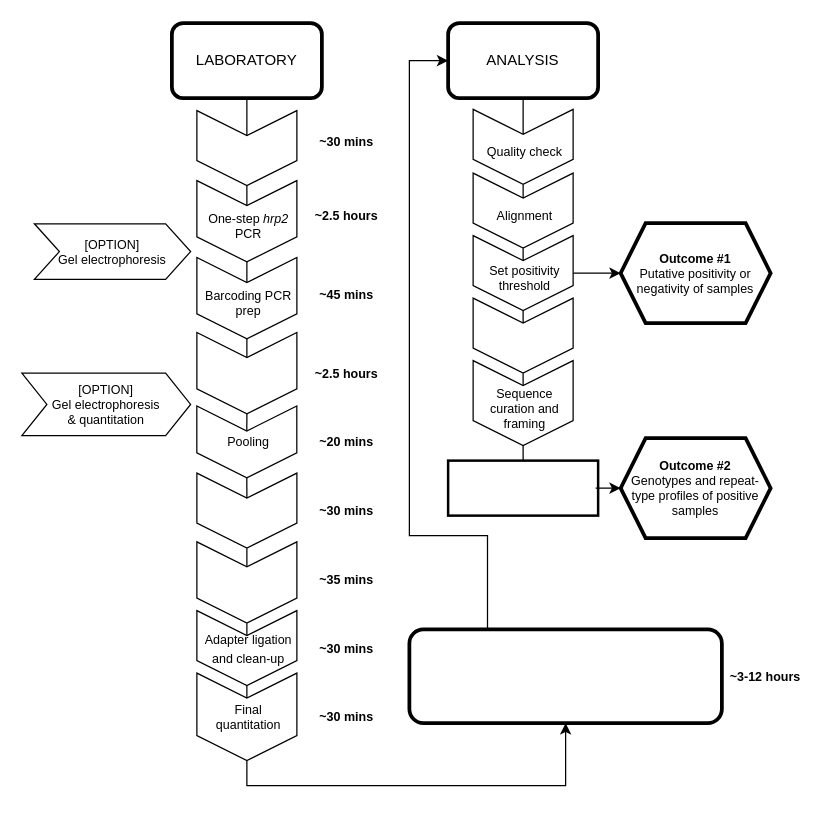
Some shapes in this 825 by 818 pixel diagram are drawn without their labels. Each missing label, with the box of its shape:
Barcoding PCR: (196, 331, 297, 414)
Cleanup: (196, 472, 297, 548)
de novo assembly: (472, 297, 573, 373)
DNA repair & end-prep: (196, 541, 297, 623)
One-step hrp2 PCR prep: (196, 109, 297, 186)
Repeat typing: (446, 459, 599, 516)
SEQUENCING Real-time basecalling and demultiplexing in MinKnow: (407, 627, 723, 724)
